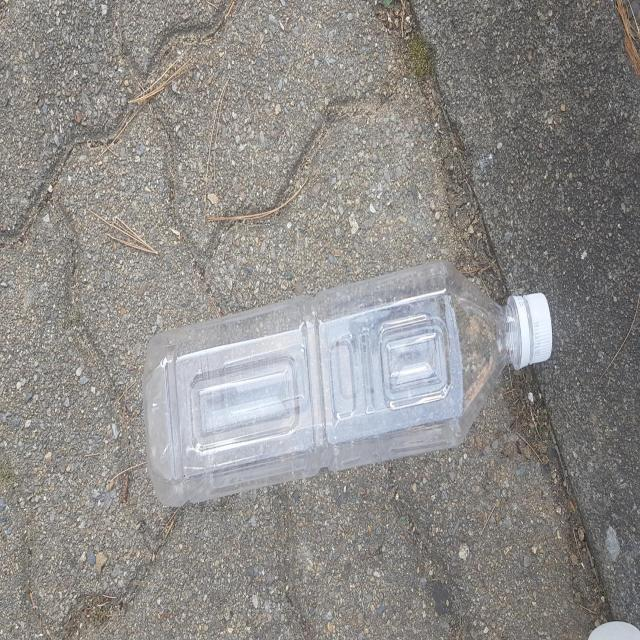plastic: (142, 261, 553, 507)
